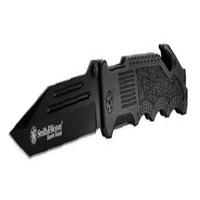knife: (4, 45, 191, 160)
